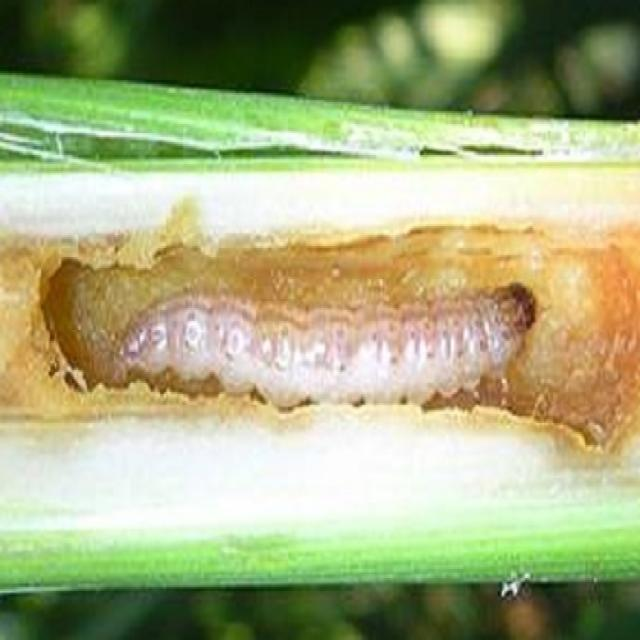cornborer-Larva-: (108, 281, 545, 410)
